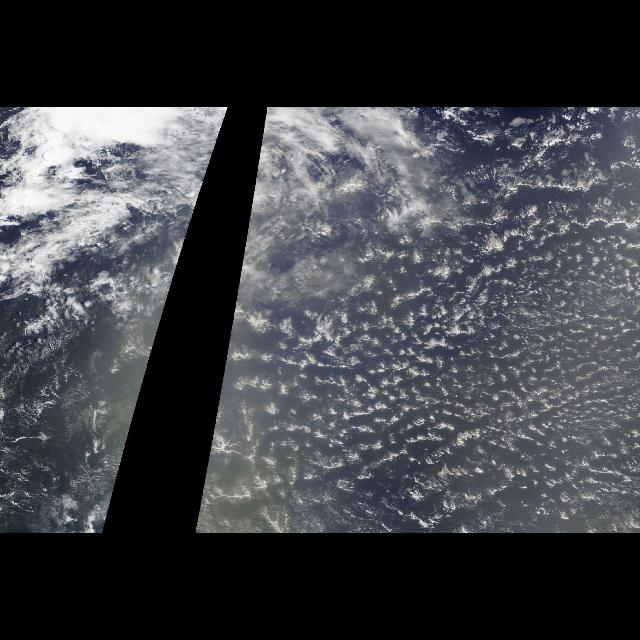Gravel: (288, 245, 640, 500)
Sugar: (246, 234, 640, 534)
